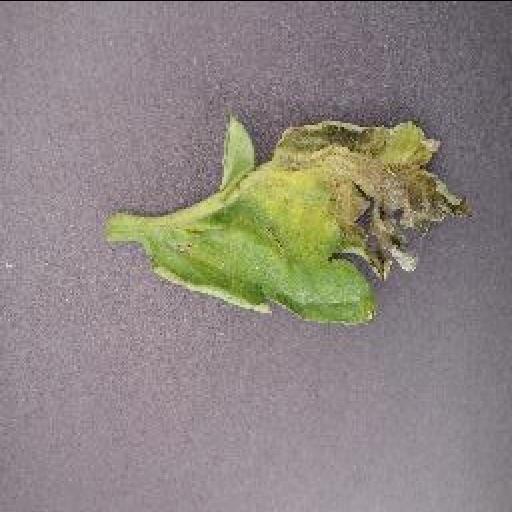disease_tomato: (142, 114, 474, 322)
